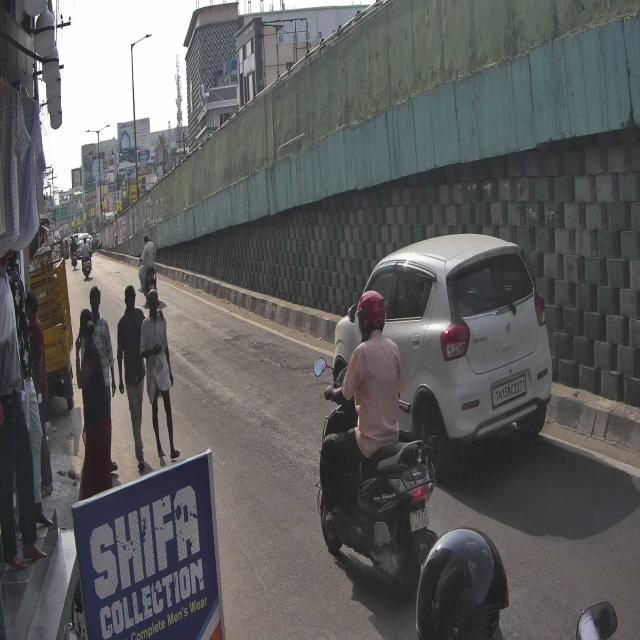single_rider: (312, 287, 436, 602)
